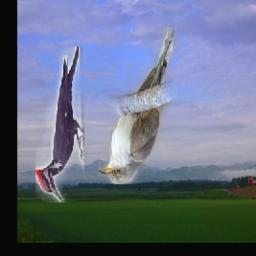Cuckoo: (99, 28, 177, 185)
Woodpecker: (35, 47, 83, 202)
